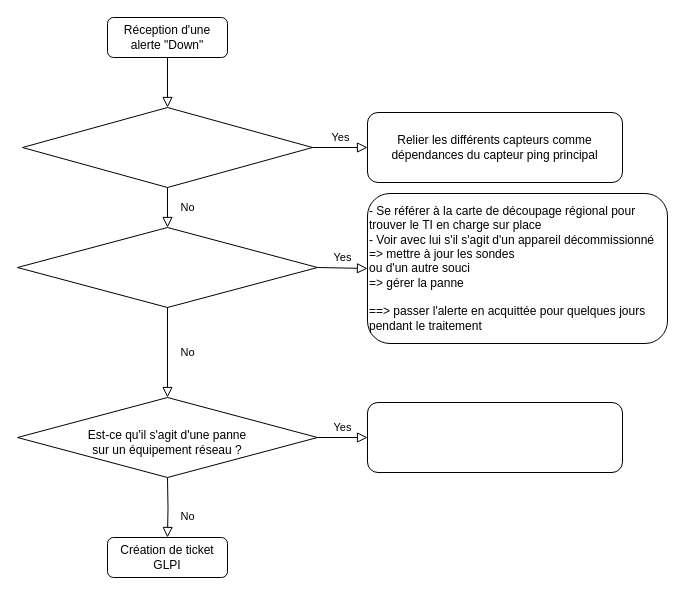
The diagram is 685 pixels wide and 595 high, and some of its shapes have lost their labels. The box of each missing label's shape, as (x1, y1, x2, y2) in pixels:
Est-ce qu'il s'agit d'alertes en chaîne ?: (22, 106, 312, 188)
Est-ce qu'il s'agit d'une panne de NAS ?: (16, 226, 318, 308)
Rediriger vers l'équipe réseau: (366, 402, 622, 472)
